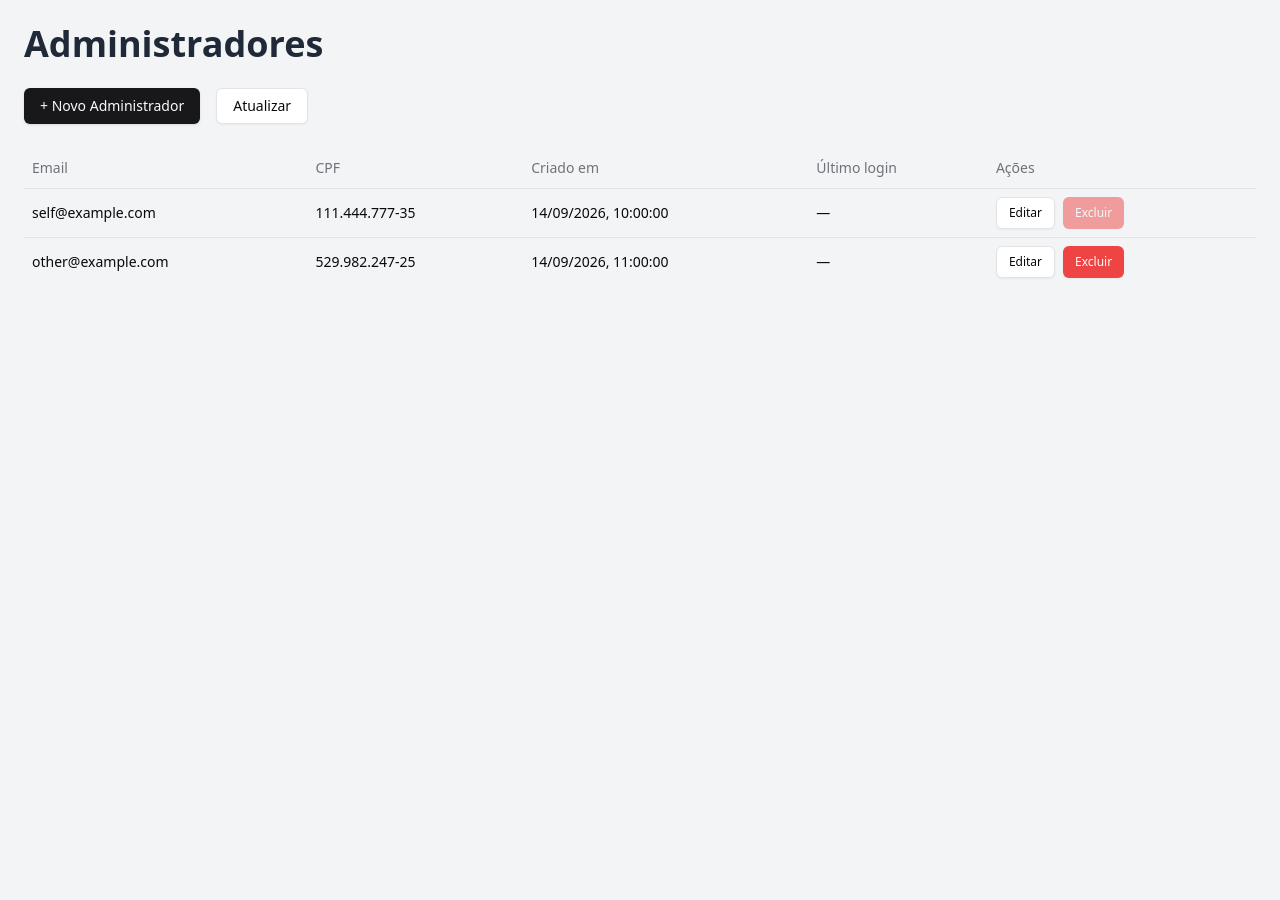
Scenario: AdminUsersView › should show the backend error message when deletion is rejected (e.g. last admin)
What coordinates should you click on to do the following:
click the button with test id "delete-btn-other-2"
I would click on:
 (1094, 262)
Its box is [1063,246,1124,278].
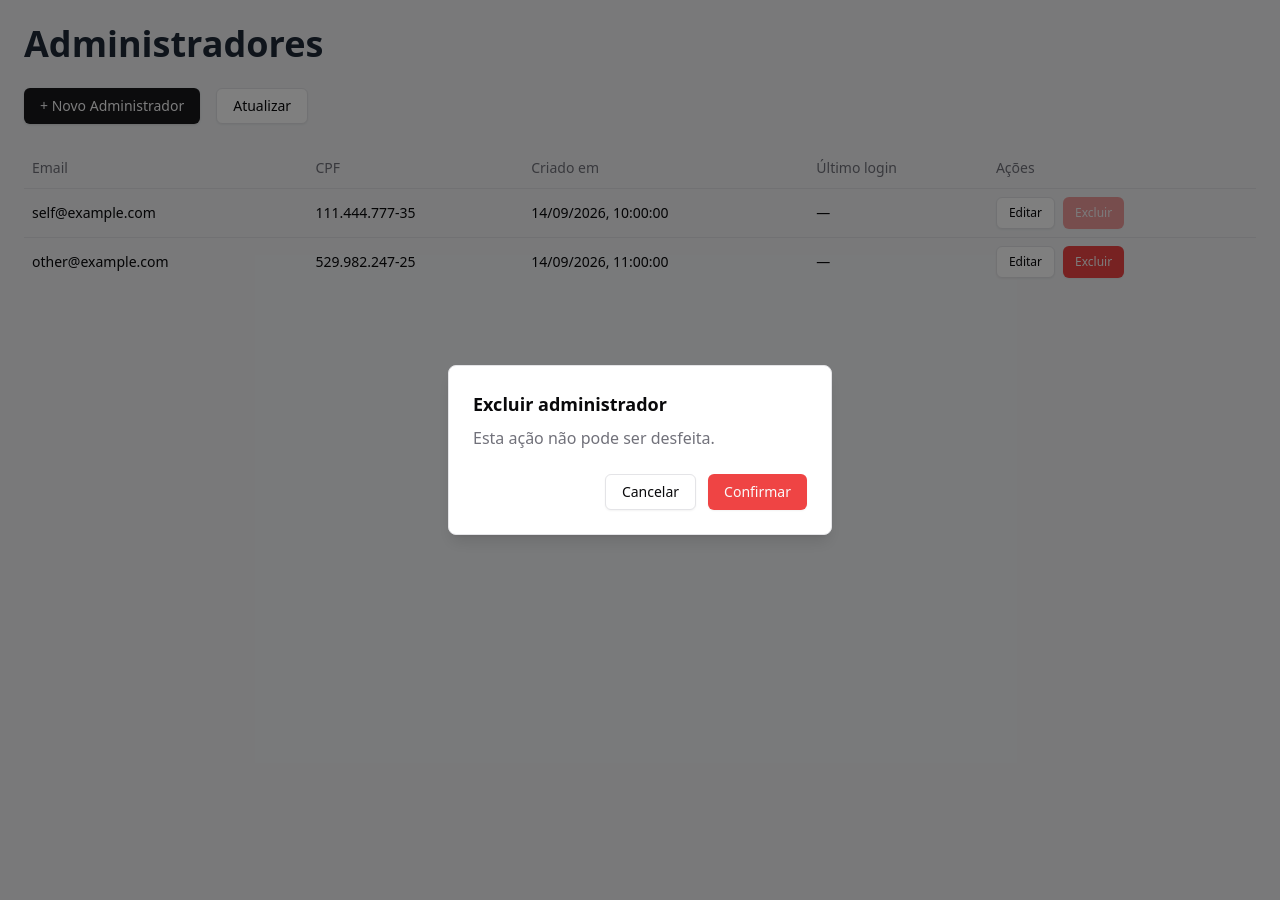
What coordinates should you click on to do the following:
click the button with test id "confirm-dialog-confirm"
I would click on:
 (758, 492)
Its box is [708,474,807,510].
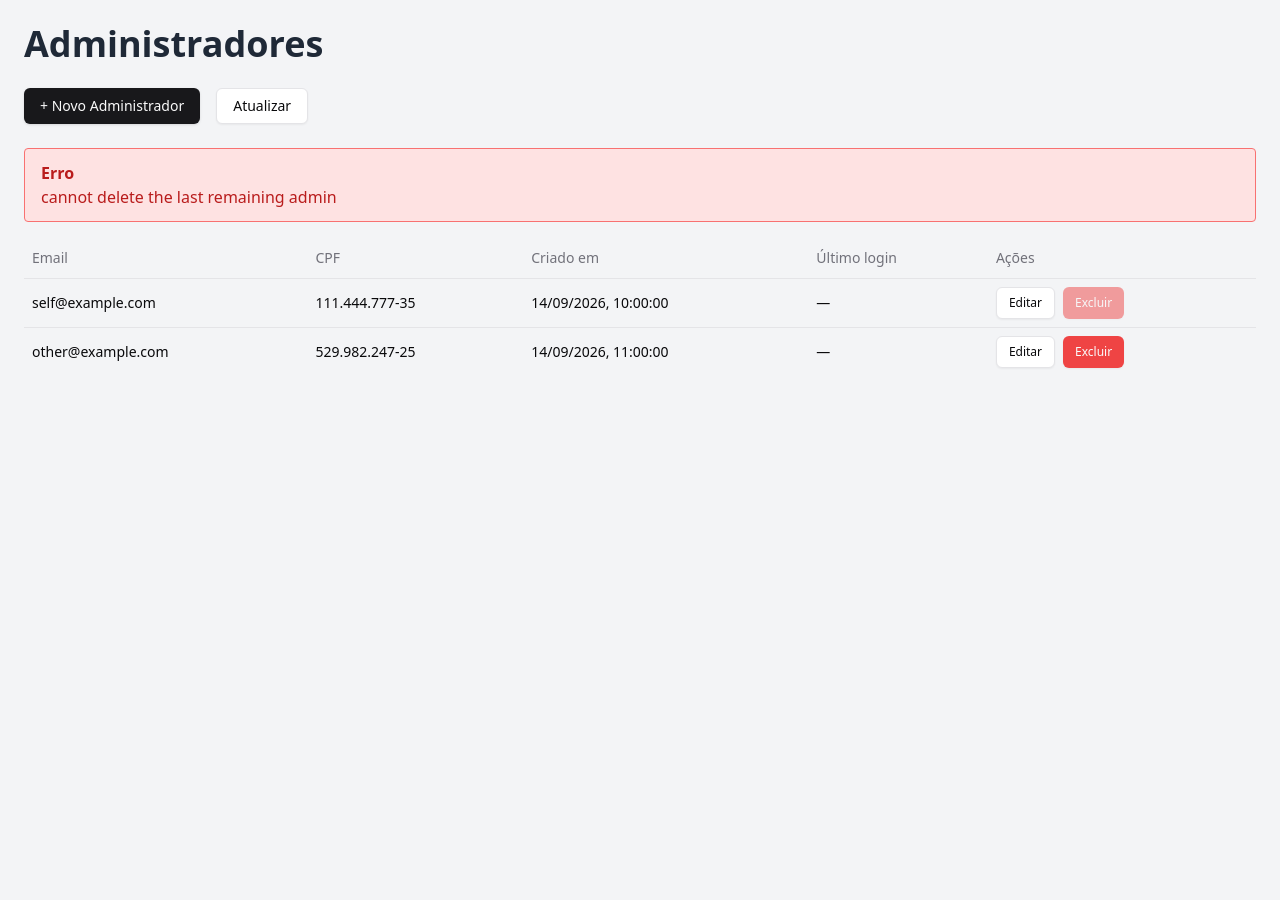
Check: the message with test id "error-alert" shows "cannot delete the last remaining admin", box [41,186,337,208]
